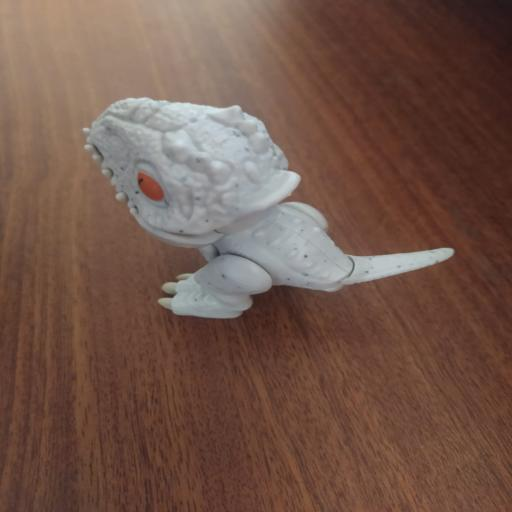Dinosaurio: (69, 89, 466, 333)
